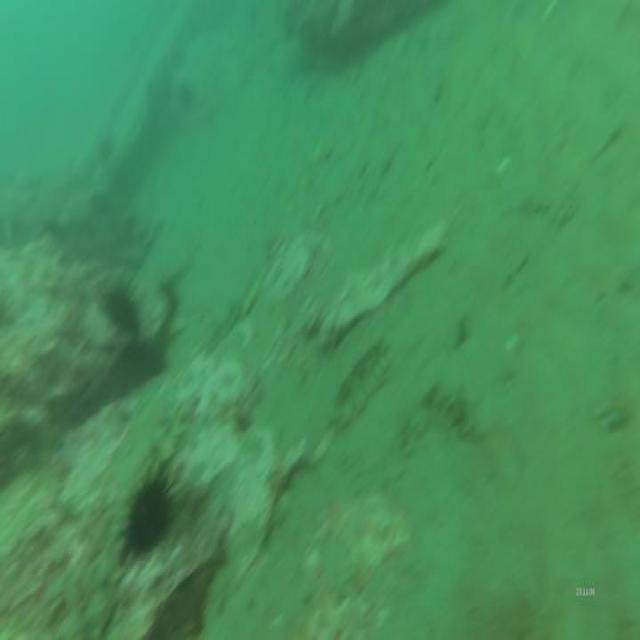echinus: (107, 453, 185, 569), (102, 275, 142, 338)
